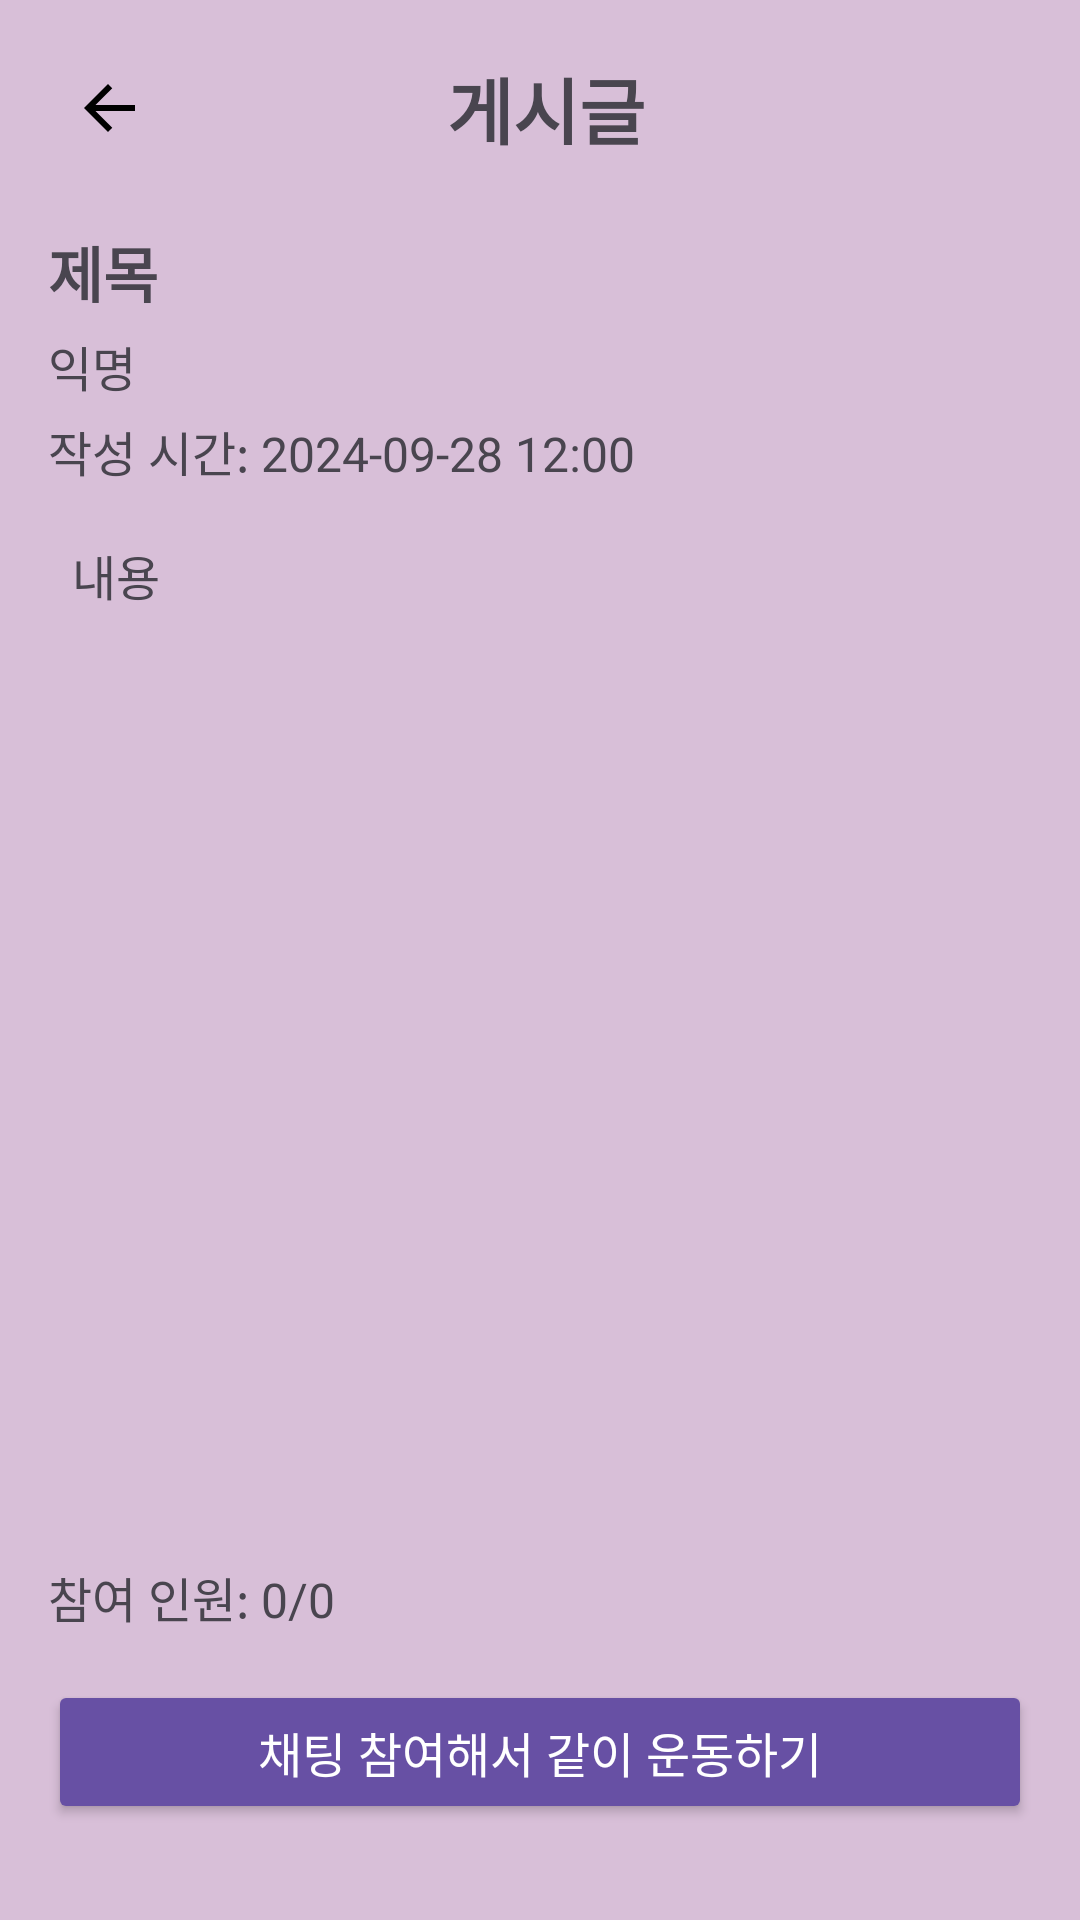

Locate icon controls on the screen. Image size 1080×1920, boxes as bbox=(x1, y1, x2, y2).
arrow back: bbox=(84, 84, 135, 132)
